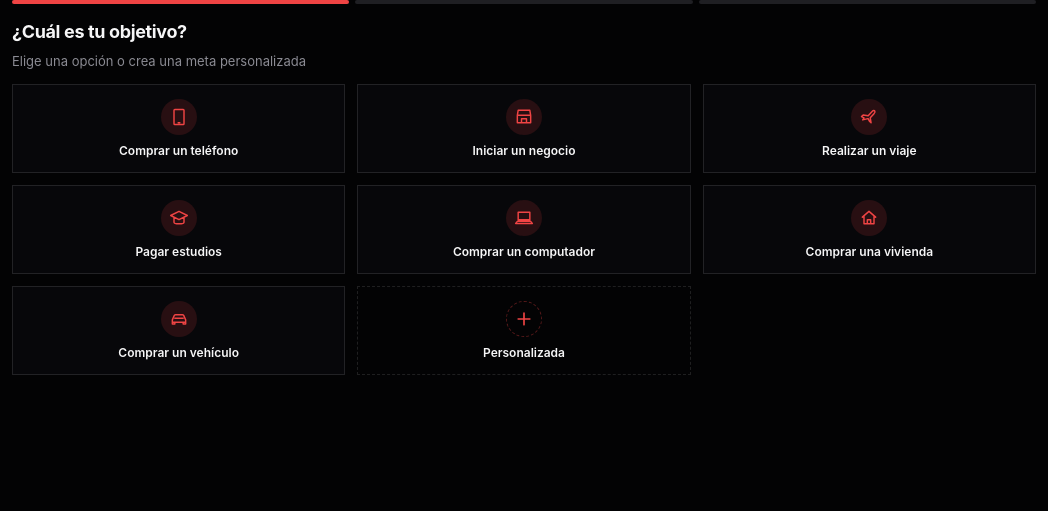
Test: CreateGoalWizard › el bloque "ya tienes ahorrado" arranca colapsado, sin sheet abierto
The width and height of the screenshot is (1048, 511).
Click the button with class "type-tile-custom": (524, 330) [357, 286, 691, 375]
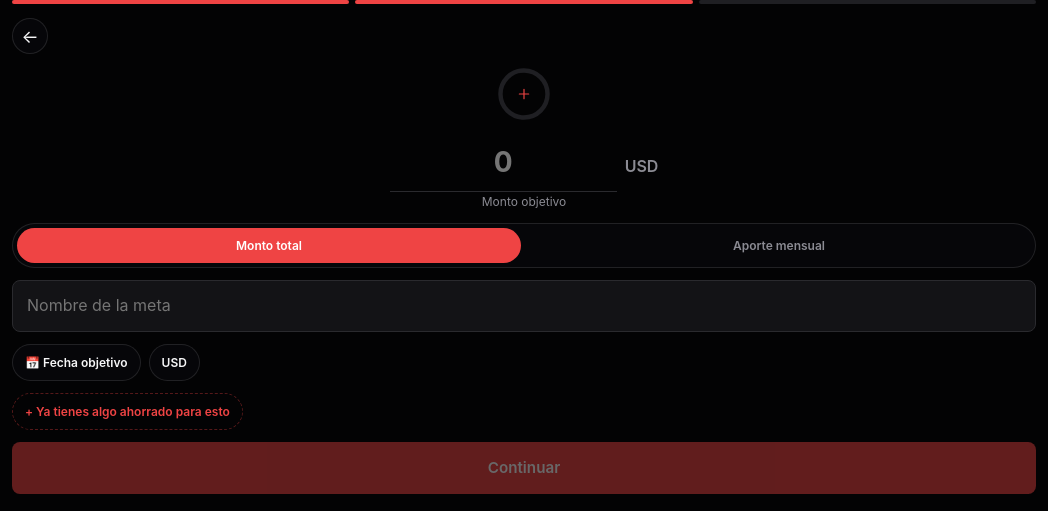
Expected: the button with class "initial-savings-toggle" is shown, [12, 393, 243, 430]
